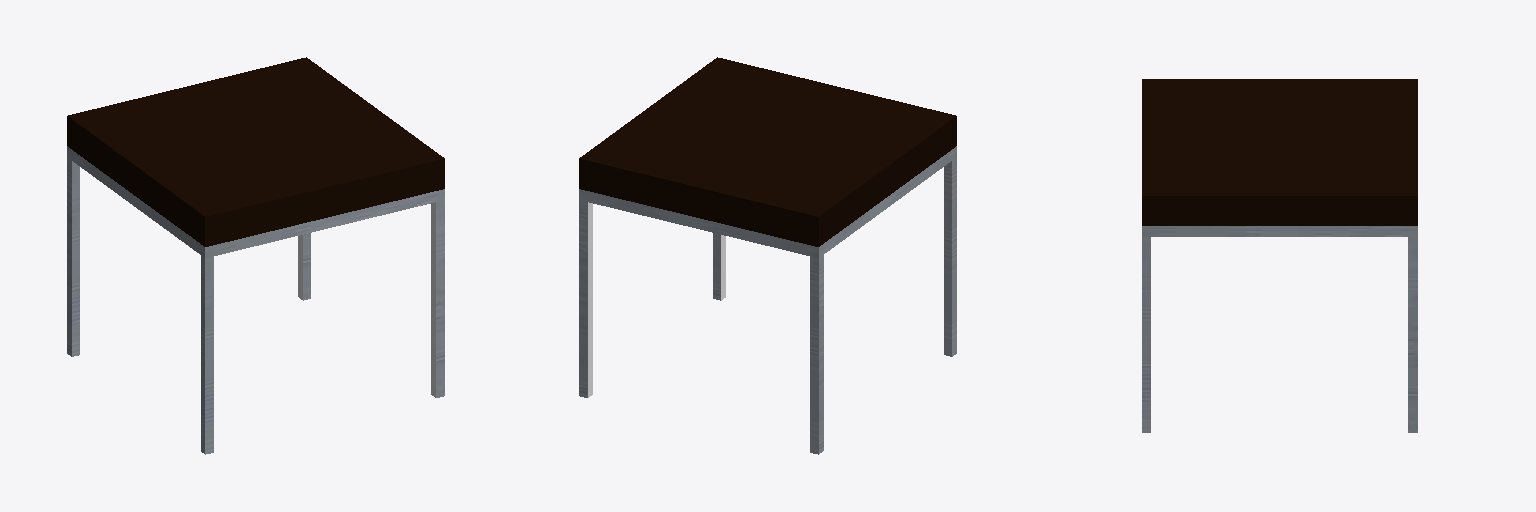
3 views of the same model, side by side, from view 1: azimuth 30°, elevation 25°; view 2: azimuth 150°, elevation 25°; view 3: azimuth 270°, elevation 25° (orthographic).
Visible parts, largest first — view 1: Mesh1 Component_1_1 Model; view 2: Mesh1 Component_1_1 Model; view 3: Mesh1 Component_1_1 Model.
Boxes of the visible parts, x1,y1,x2,y2 form: Mesh1 Component_1_1 Model: [67, 57, 444, 454]; Mesh1 Component_1_1 Model: [579, 57, 956, 454]; Mesh1 Component_1_1 Model: [1142, 79, 1417, 432].
Size of the model in its own units: 26.89 by 25.51 by 26.89.
Materials: 3 (1 with a texture image).